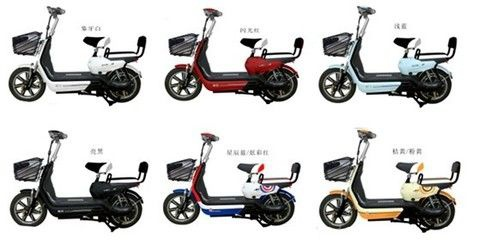non-vehicle: (317, 0, 460, 113), (11, 126, 149, 236), (5, 0, 146, 104), (318, 125, 459, 228), (161, 7, 303, 109), (160, 129, 301, 230)
